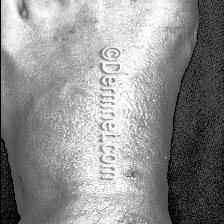Non-Cancerous Skin Condition: (22, 87, 90, 159)
